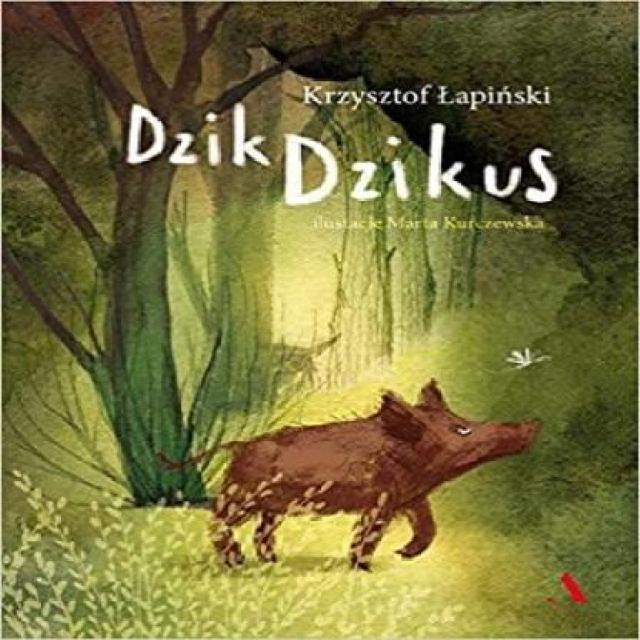wildboar: (151, 372, 547, 576)
